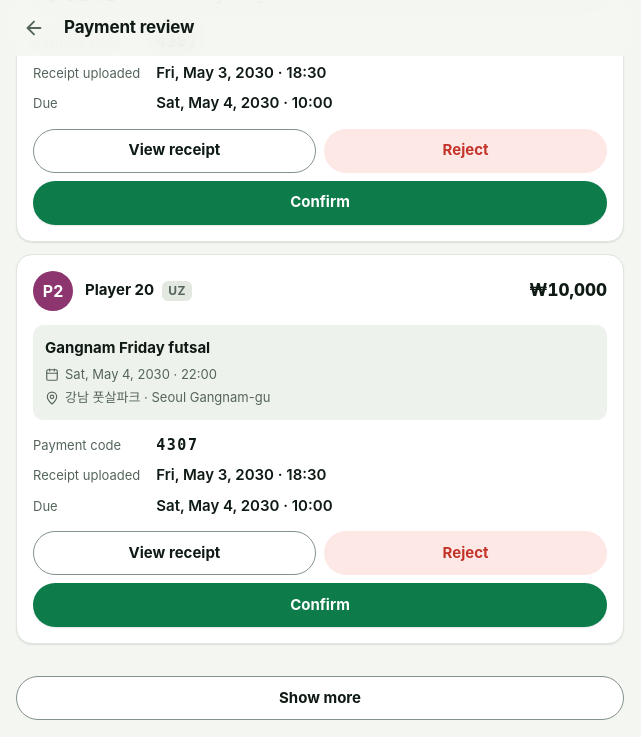
Test: payment review: the queue › loads more in pages of 20 without repeating anyone
(page scrolled)
Click the button "Show more".
click(320, 698)  # box [16,676,624,720]
(page scrolled)
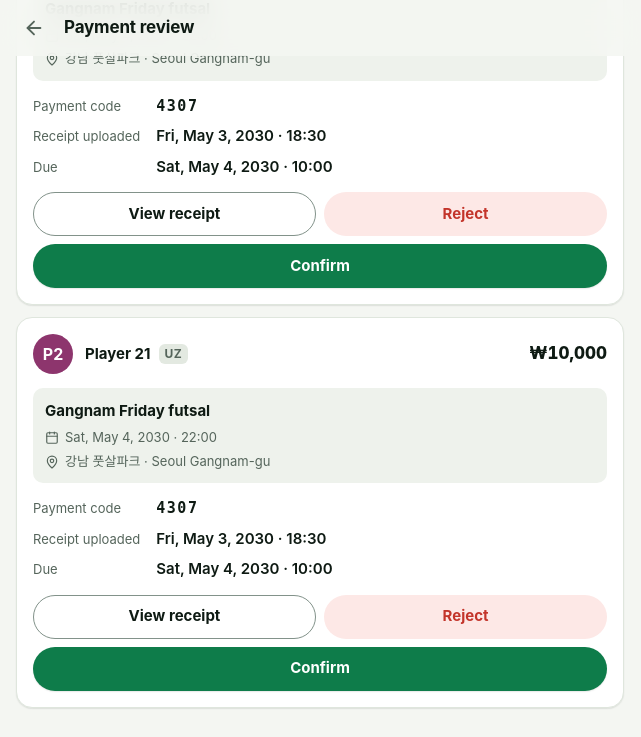
Now the element "Player 21" is shown, box [16,317,624,708]
Now the button "Show more" is gone
